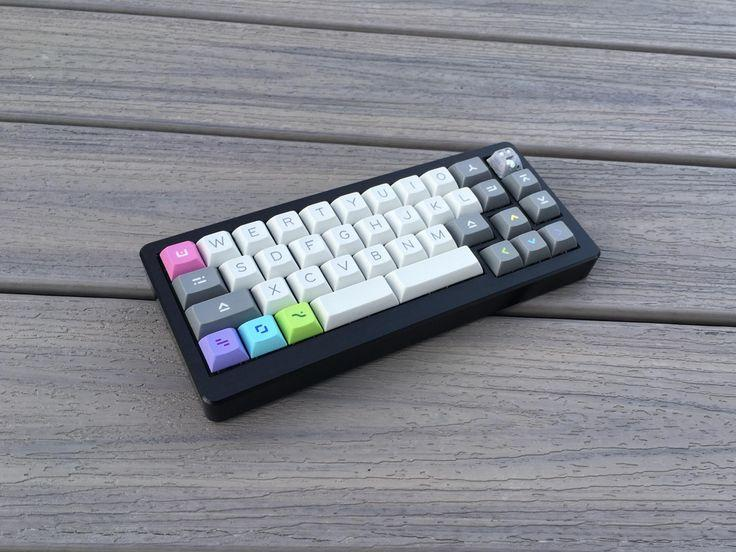keyboard: (138, 140, 600, 422)
